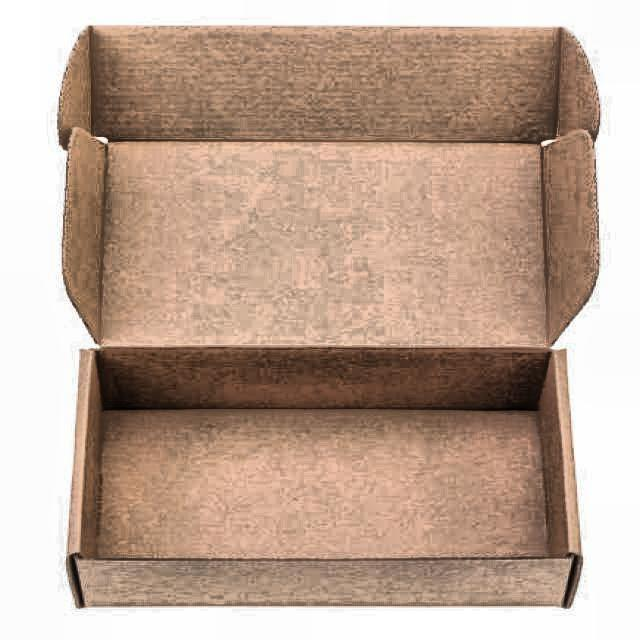cardboard: (59, 27, 603, 612)
